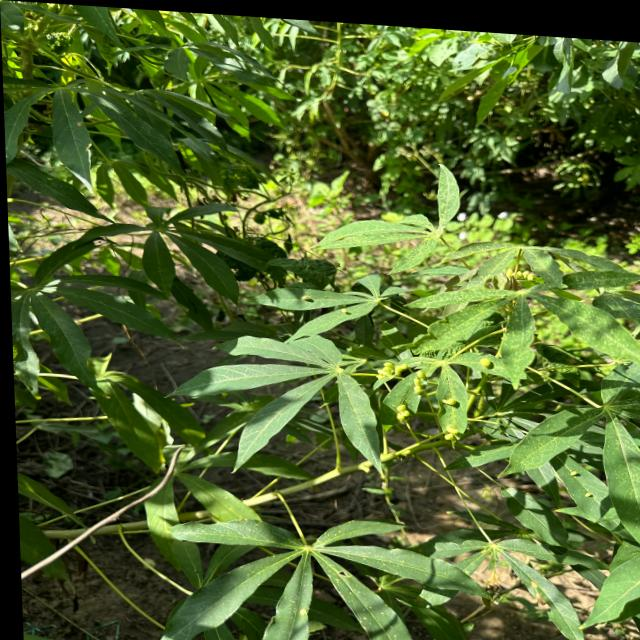Mosca: (374, 356, 405, 381), (439, 422, 463, 446), (394, 401, 413, 430), (410, 368, 429, 396), (474, 349, 496, 370), (294, 289, 314, 304), (336, 305, 353, 320), (441, 394, 458, 409), (567, 466, 581, 483), (579, 491, 601, 500)
